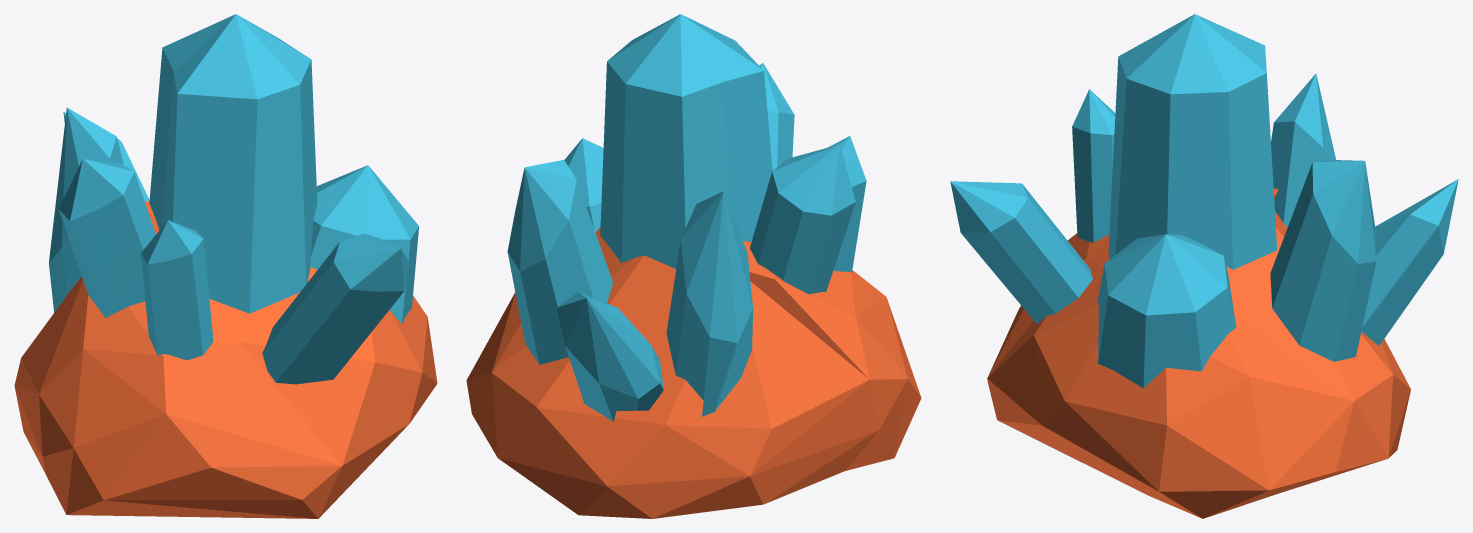
The model's file is diamon_ore.fbx.
3 renders of one model, left to right at view 1: azimuth 30°, elevation 25°; view 2: azimuth 150°, elevation 25°; view 3: azimuth 270°, elevation 25°, orthographic. The views are drawn at different scales.
Parts seen in each view (by area): view 1: PP_Stone_Crystal_02_Gold; view 2: PP_Stone_Crystal_02_Gold; view 3: PP_Stone_Crystal_02_Gold.
Part boxes in pixels (x1,y1,x2,y2): PP_Stone_Crystal_02_Gold: (14,14,437,518); PP_Stone_Crystal_02_Gold: (466,14,921,518); PP_Stone_Crystal_02_Gold: (950,14,1458,518).
Size of the model in its own units: 39.96 by 47.76 by 46.91.
